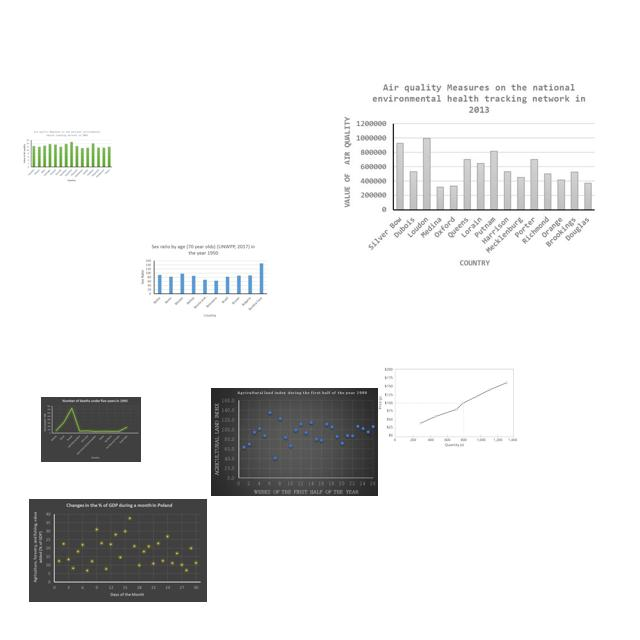Graph: (331, 79, 603, 273), (29, 499, 207, 602), (211, 388, 378, 496), (378, 367, 518, 448), (138, 242, 269, 319), (41, 397, 141, 462), (21, 129, 114, 183)
